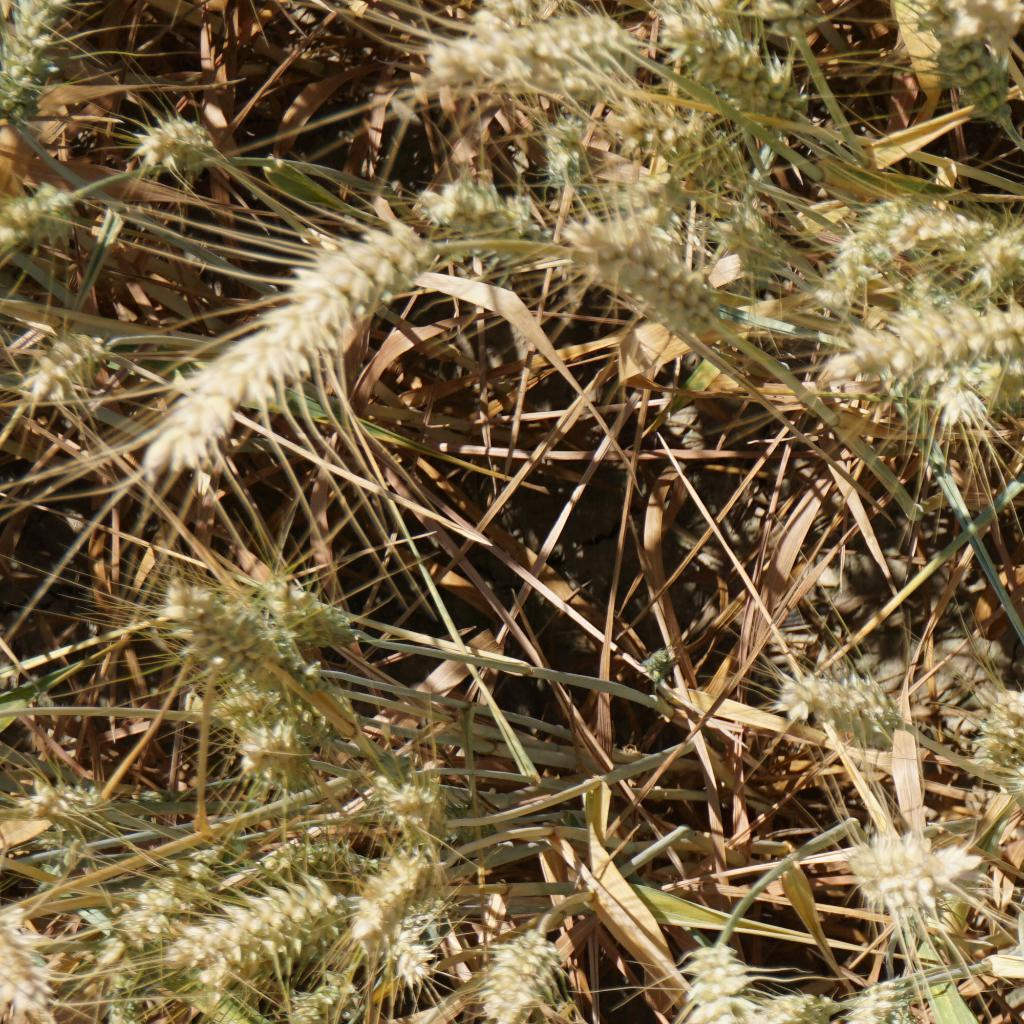0-0: (132, 198, 439, 496), (657, 0, 826, 129), (563, 216, 717, 331), (425, 18, 638, 98), (762, 660, 921, 755), (802, 309, 1024, 376), (171, 887, 344, 972), (891, 269, 986, 407), (927, 22, 1024, 141), (826, 188, 970, 268), (609, 101, 741, 181), (156, 578, 272, 666), (421, 179, 542, 256), (12, 335, 117, 413), (0, 0, 62, 125), (264, 578, 368, 651), (594, 168, 704, 237), (0, 920, 71, 1024), (691, 926, 764, 1024), (844, 835, 942, 905), (0, 182, 82, 263), (210, 681, 293, 759), (482, 937, 559, 1021), (130, 104, 215, 178), (724, 207, 808, 281), (962, 680, 1024, 768), (242, 723, 330, 784), (354, 850, 415, 937), (267, 966, 355, 1024), (385, 776, 458, 845), (964, 217, 1024, 292), (379, 920, 446, 983), (18, 770, 96, 822), (115, 872, 172, 940), (536, 118, 591, 188), (837, 975, 907, 1024), (269, 835, 353, 873), (95, 967, 150, 1024), (750, 980, 821, 1024), (174, 845, 231, 893), (638, 644, 686, 685)
